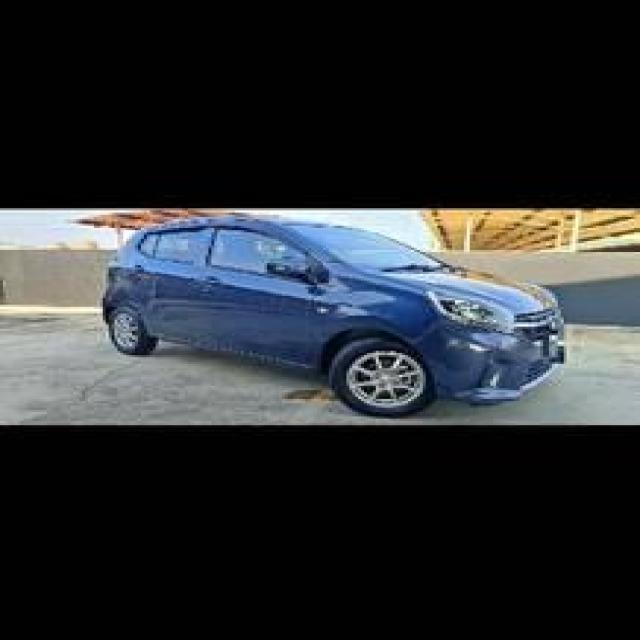PeroduaAxia: (100, 213, 566, 417)
